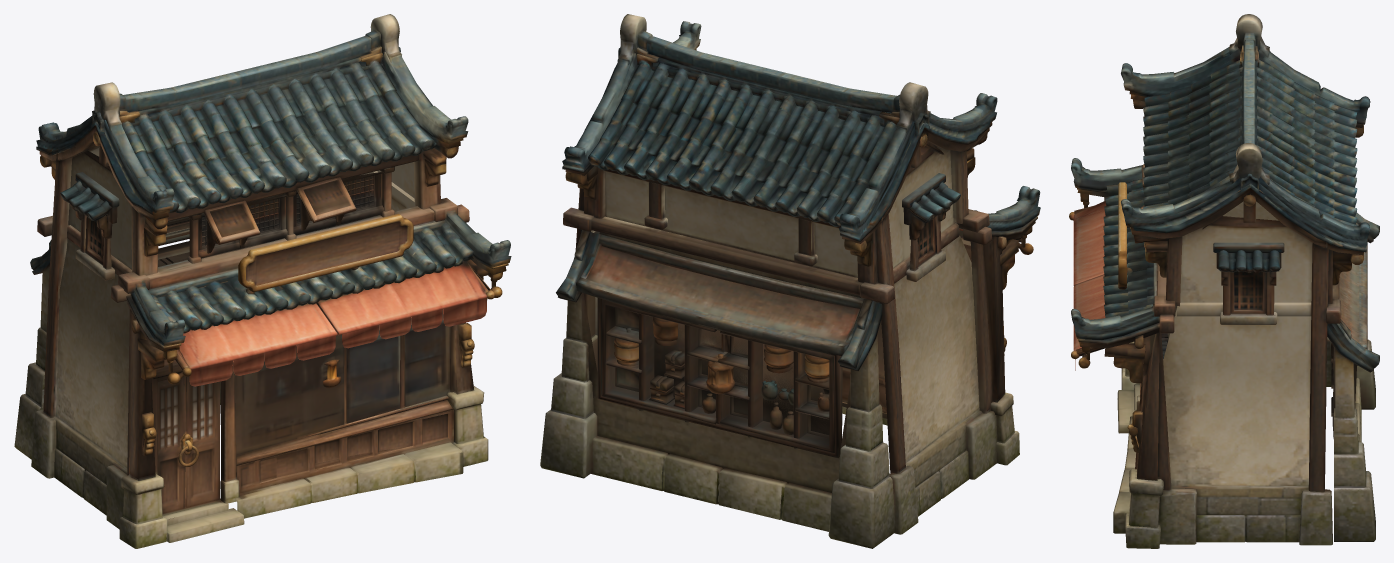
The model's file is traditional storefront 3d model.glb.
3 renders of one model, left to right at view 1: azimuth 30°, elevation 25°; view 2: azimuth 150°, elevation 25°; view 3: azimuth 270°, elevation 25°, orthographic. The views are drawn at different scales.
Parts seen in each view (by area): view 1: tripo_node_73e7b9b5-6d74-46a7-96a6-ba0d43a482fa; view 2: tripo_node_73e7b9b5-6d74-46a7-96a6-ba0d43a482fa; view 3: tripo_node_73e7b9b5-6d74-46a7-96a6-ba0d43a482fa.
Boxes of the visible parts, <box> form: tripo_node_73e7b9b5-6d74-46a7-96a6-ba0d43a482fa: <box>14,14,511,548</box>; tripo_node_73e7b9b5-6d74-46a7-96a6-ba0d43a482fa: <box>540,14,1040,548</box>; tripo_node_73e7b9b5-6d74-46a7-96a6-ba0d43a482fa: <box>1069,14,1379,548</box>.
Size of the model in its own units: 0.9243 by 0.9995 by 0.7329.
Materials: 1 (1 with a texture image).
